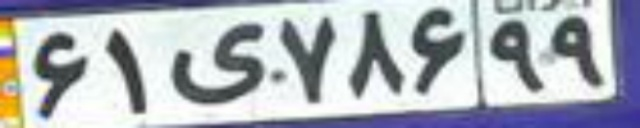1: (102, 28, 146, 114)
6: (28, 31, 88, 117), (413, 9, 463, 95)
7: (278, 17, 341, 103)
8: (345, 13, 403, 98)
9: (488, 19, 541, 91), (550, 16, 602, 88)
ye: (169, 23, 266, 104)
